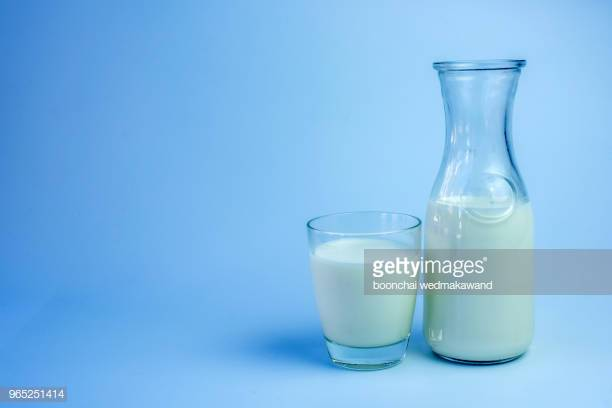glass of milk: (307, 205, 362, 374)
